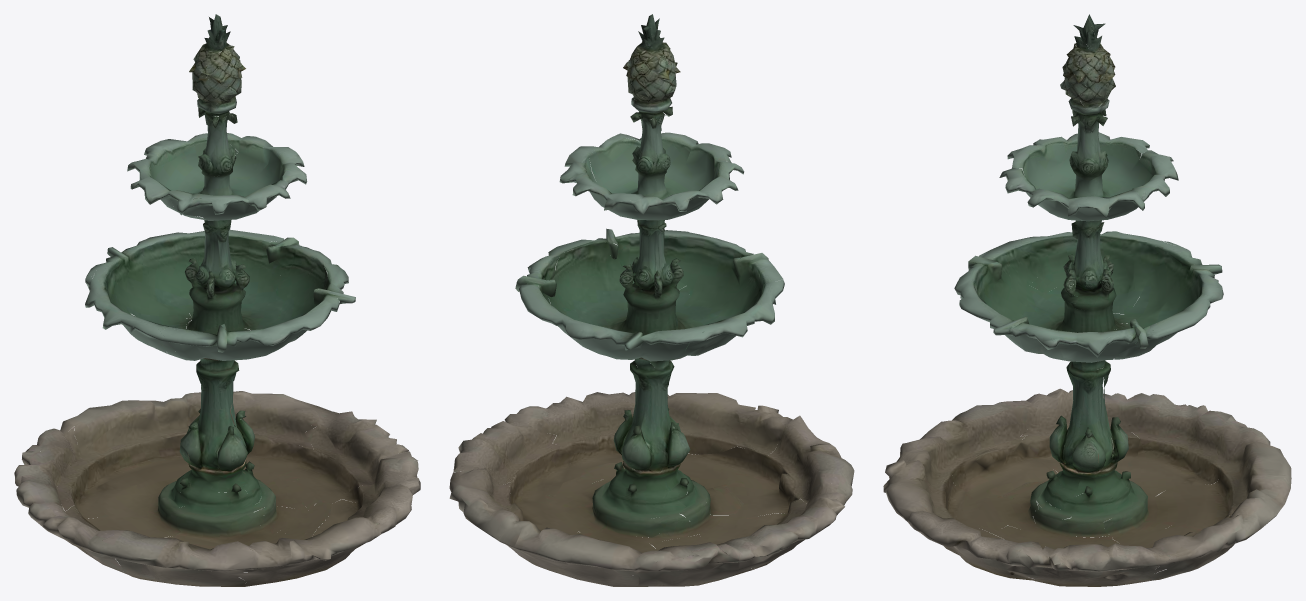
The model's file is cp_fountain.glb.
3 views of the same model, side by side, from view 1: azimuth 30°, elevation 25°; view 2: azimuth 150°, elevation 25°; view 3: azimuth 270°, elevation 25° (orthographic).
Parts seen in each view (by area): view 1: tripo_node_d2d749d0-3ca9-4267-a802-466ffa89b04b; view 2: tripo_node_d2d749d0-3ca9-4267-a802-466ffa89b04b; view 3: tripo_node_d2d749d0-3ca9-4267-a802-466ffa89b04b.
Part boxes in pixels (x1=…): tripo_node_d2d749d0-3ca9-4267-a802-466ffa89b04b: x1=14, y1=14, x2=420, y2=586; tripo_node_d2d749d0-3ca9-4267-a802-466ffa89b04b: x1=449, y1=14, x2=854, y2=586; tripo_node_d2d749d0-3ca9-4267-a802-466ffa89b04b: x1=883, y1=14, x2=1291, y2=586.
Bounding box in the file's own units: 0.7224 × 0.9989 × 0.7221.
Materials: 1 (1 with a texture image).
